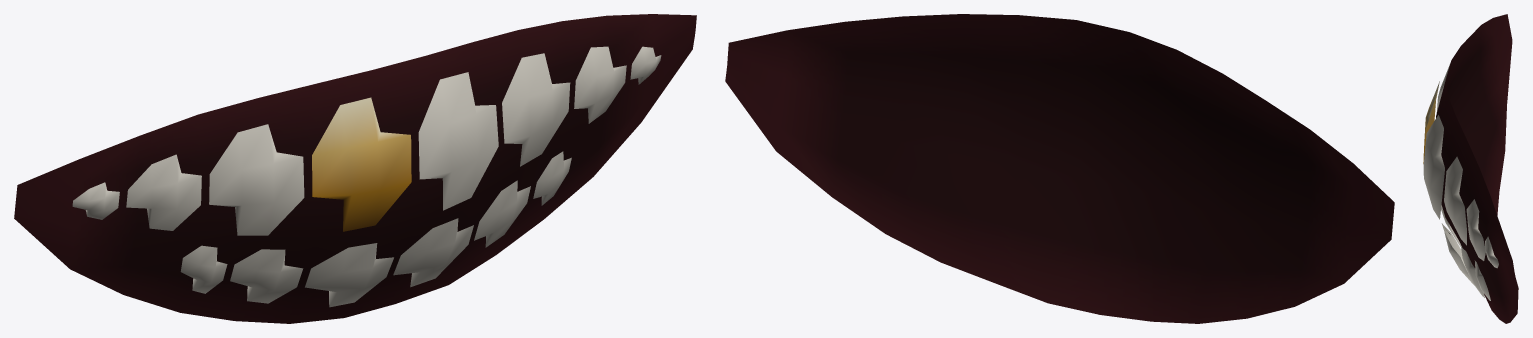
The model's file is tooth_gold_female_hi.glb.
3 views of the same model, side by side, from view 1: azimuth 30°, elevation 25°; view 2: azimuth 150°, elevation 25°; view 3: azimuth 270°, elevation 25° (orthographic). The views are drawn at different scales.
Visible parts, largest first — view 1: tooth_gold_female_hi; view 2: tooth_gold_female_hi; view 3: tooth_gold_female_hi.
Boxes of the visible parts, box(x1,y1,x2,y2) form: tooth_gold_female_hi: box(14, 14, 696, 323); tooth_gold_female_hi: box(725, 14, 1394, 323); tooth_gold_female_hi: box(1423, 14, 1518, 323).
Bounding box in the file's own units: 0.1204 × 0.0455 × 0.0196.
